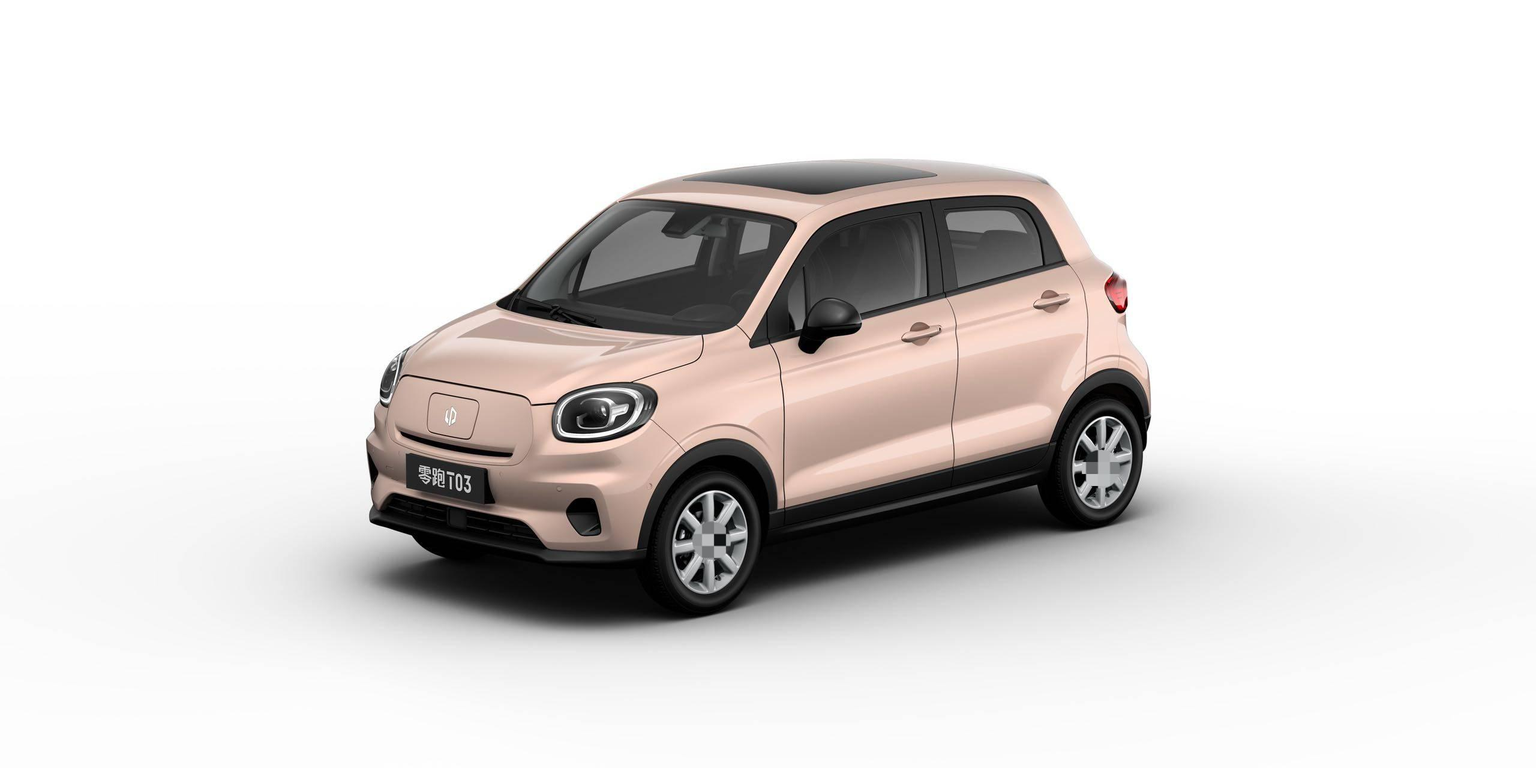LEAPMOTOR: (444, 406, 457, 426)
